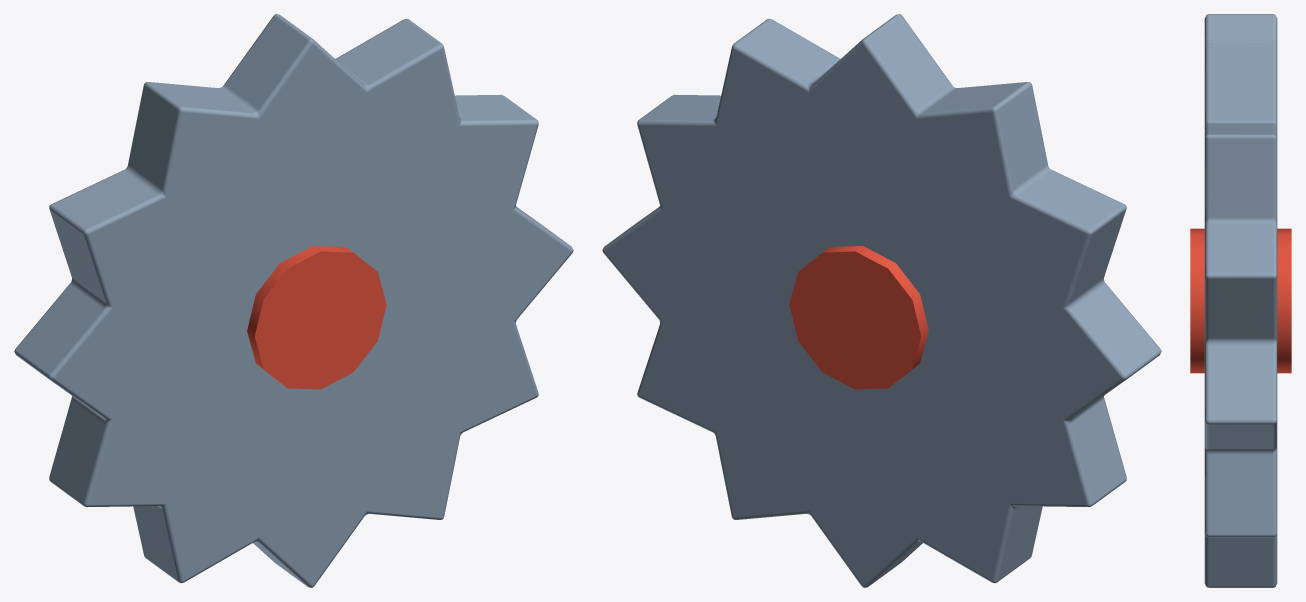
The model's file is ENV_Gear.glb.
3 views of the same model, side by side, from view 1: azimuth 30°, elevation 25°; view 2: azimuth 150°, elevation 25°; view 3: azimuth 270°, elevation 25° (orthographic). The views are drawn at different scales.
Visible parts, largest first — view 1: Gear, Hub; view 2: Gear, Hub; view 3: Gear, Hub.
Boxes of the visible parts, x1=… form: Gear: x1=14, y1=14, x2=573, y2=587; Hub: x1=247, y1=246, x2=386, y2=389; Gear: x1=602, y1=14, x2=1161, y2=587; Hub: x1=789, y1=246, x2=928, y2=389; Gear: x1=1204, y1=14, x2=1277, y2=587; Hub: x1=1190, y1=228, x2=1291, y2=373.
Size of the model in its own units: 3.97 by 3.97 by 0.7.
